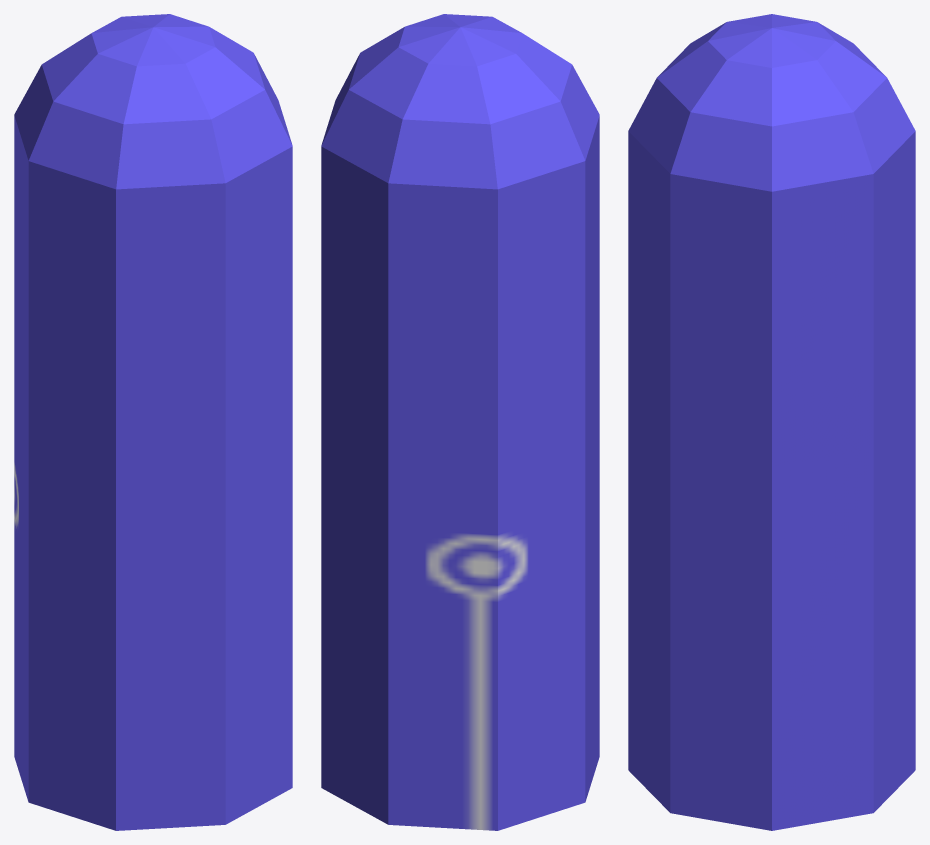
The model's file is wala_building02.fbx.
The picture shows the model from 3 angles, left to right: view 1: azimuth 30°, elevation 25°; view 2: azimuth 150°, elevation 25°; view 3: azimuth 270°, elevation 25°; orthographic projection.
Visible parts, largest first — view 1: wala_building02; view 2: wala_building02; view 3: wala_building02.
Part boxes in pixels (x1,y1,x2,y2): wala_building02: (14,14,292,830); wala_building02: (321,14,599,830); wala_building02: (628,14,915,830).
Bounding box in the file's own units: 2.12 × 6.03 × 2.12.
